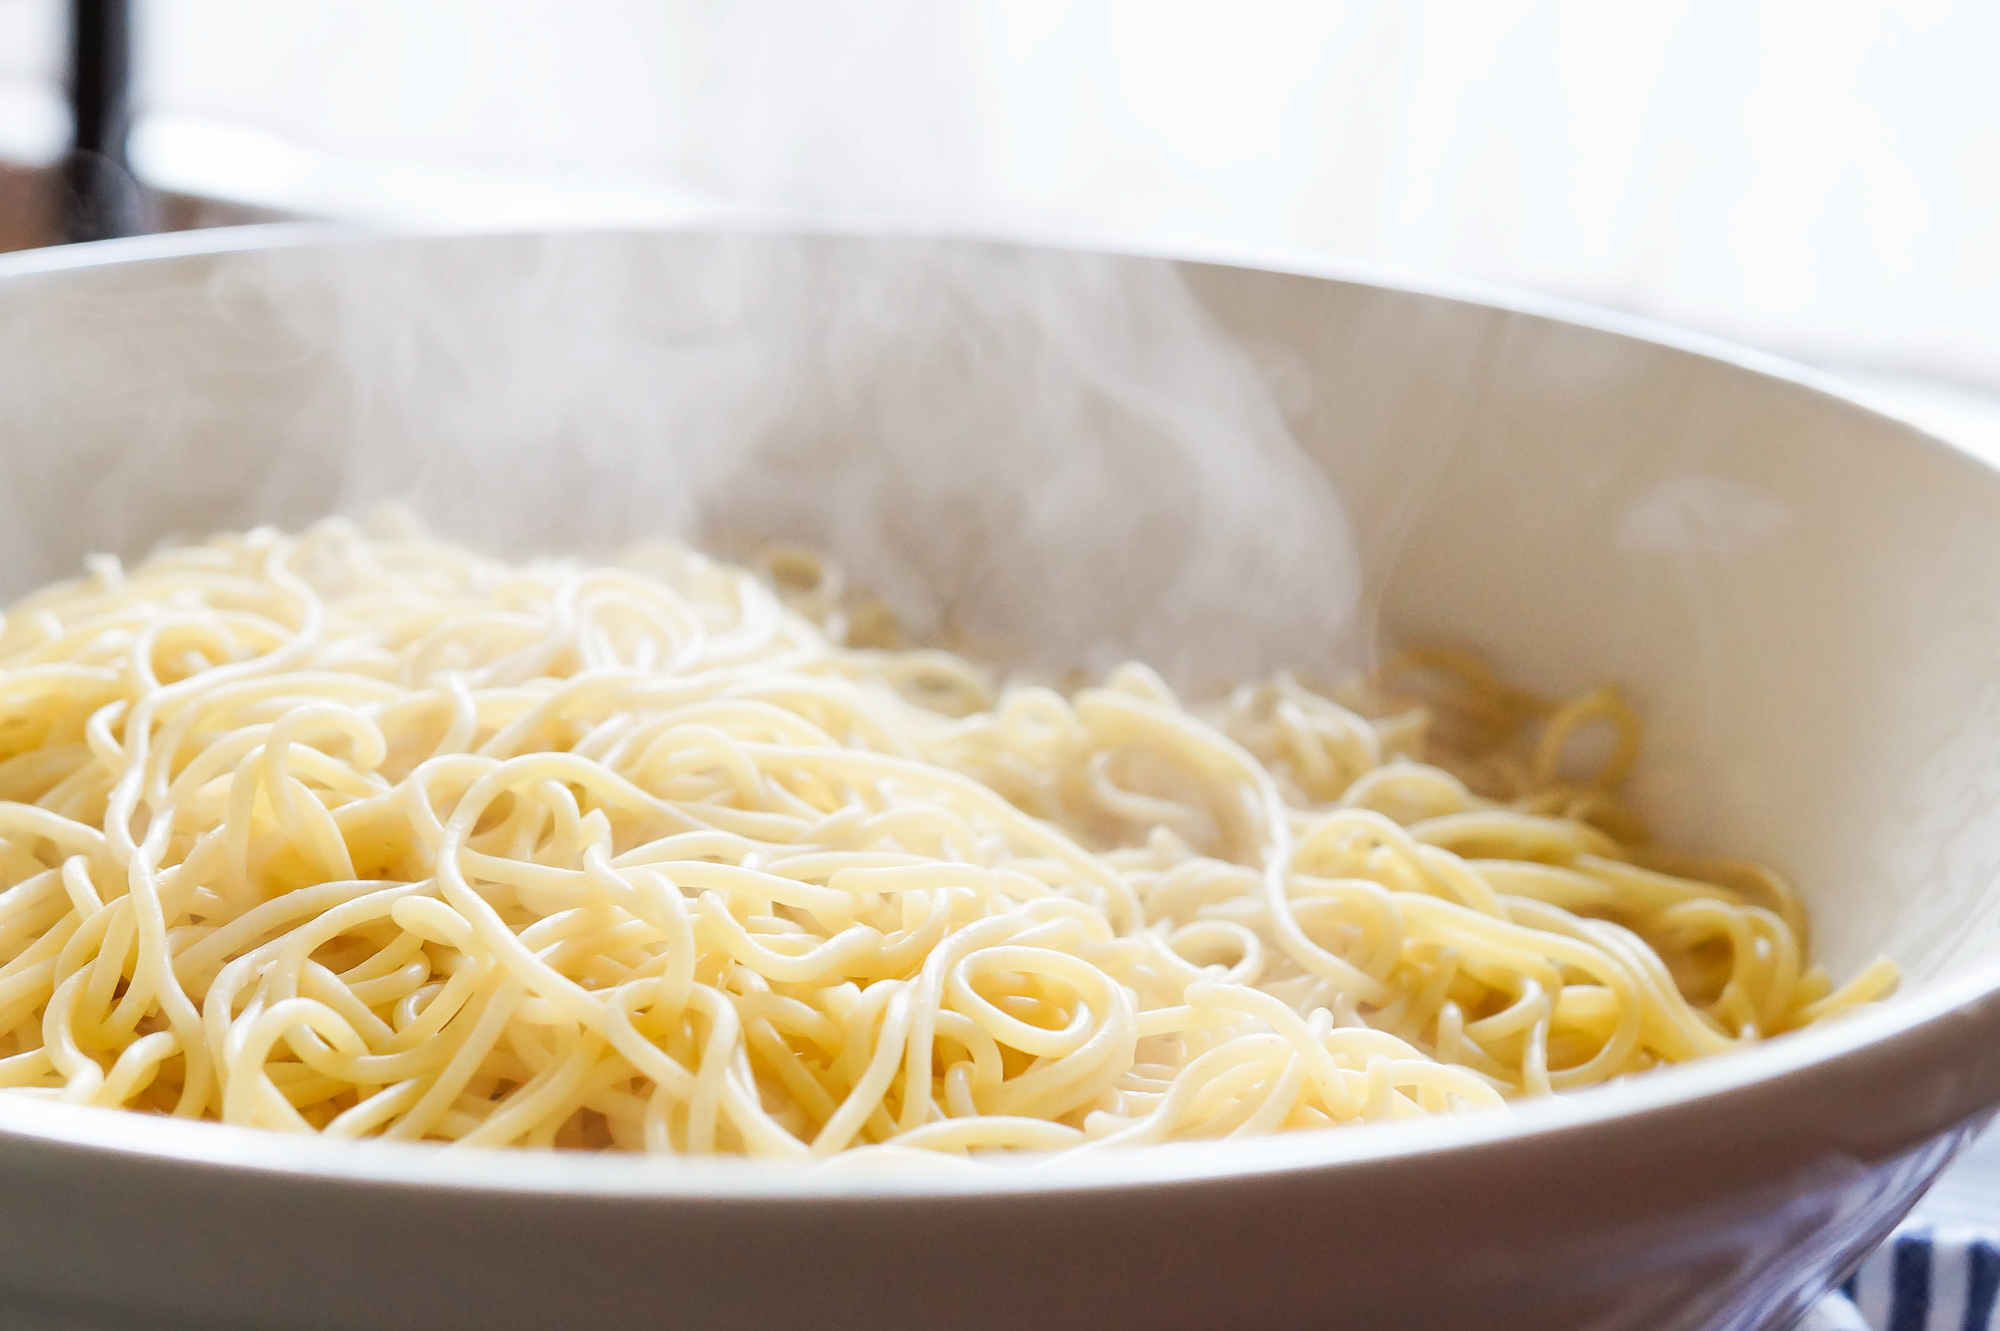plain spaghetti: (13, 542, 1767, 1086)
